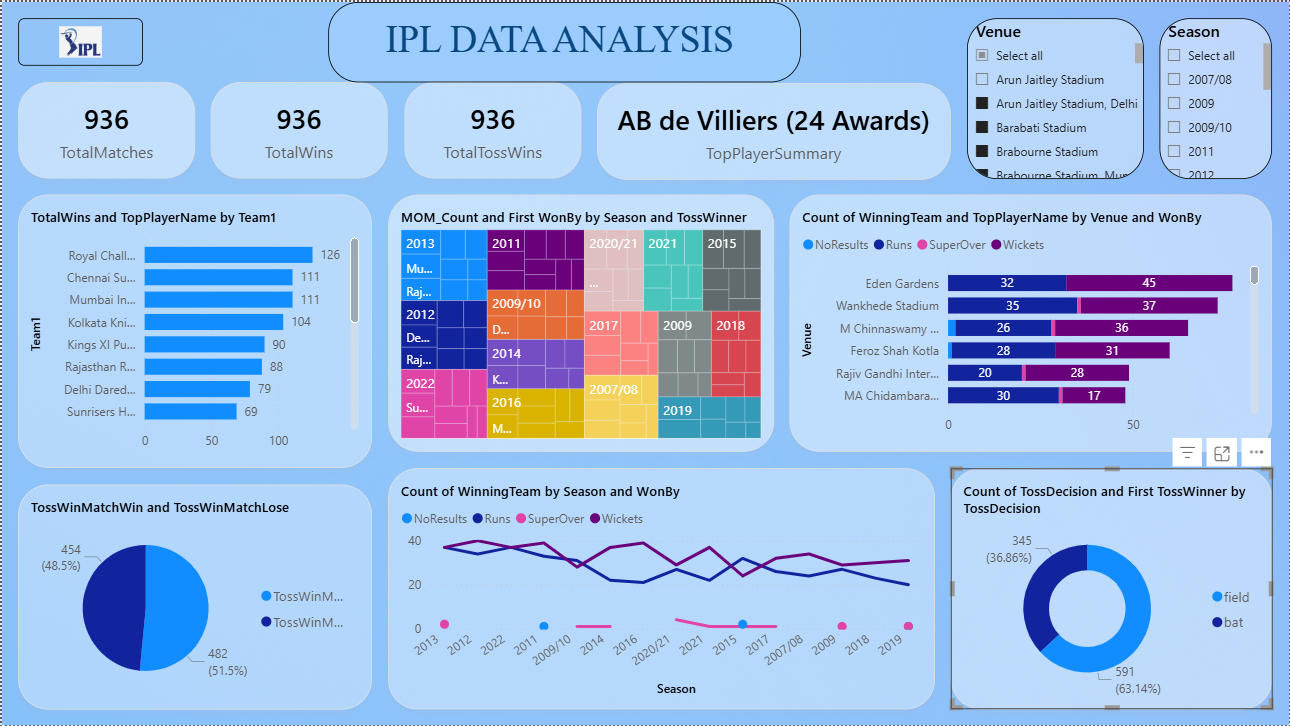

The dashboard page shown, as its layout file describes it:
{"tool":"powerbi","page":{"name":"Analysis 2","canvas":[1280,720],"ordinal":6},"visuals":[{"type":"clusteredBarChart","fields":{"Y":["IPL_Dataset.TotalWins"],"Category":["IPL_Dataset.Team1","IPL_Dataset.Team2"]},"box":[16,192,352,272],"z":0},{"type":"treemap","fields":{"Values":["IPL_Dataset.MOM_Count"],"Group":["IPL_Dataset.Season"],"Details":["IPL_Dataset.TossWinner"]},"box":[384,192,384,256],"z":1000},{"type":"lineChart","fields":{"Category":["IPL_Dataset.Season"],"Y":["IPL_Dataset.WinningTeam"],"Series":["IPL_Dataset.WonBy"]},"box":[384,464,544,240],"z":2000},{"type":"donutChart","fields":{"Category":["IPL_Dataset.TossDecision"],"Y":["IPL_Dataset.TossDecision"]},"box":[944,464,320,240],"z":3000},{"type":"card","fields":{"Values":["IPL_Dataset.TotalMatches"]},"box":[16,80,176,96],"z":4000},{"type":"card","fields":{"Values":["IPL_Dataset.TotalWins"]},"box":[208,80,176,96],"z":5000},{"type":"card","fields":{"Values":["IPL_Dataset.TotalTossWins"]},"box":[400,80,176,96],"z":6000},{"type":"card","fields":{"Values":["IPL_Dataset.TopPlayerSummary"]},"box":[592.1,80.9,352,95.8],"z":7000},{"type":"pieChart","fields":{"Y":["IPL_Dataset.TossWinMatchWin","IPL_Dataset.TossWinMatchLose"]},"box":[16,480,352,224],"z":8000},{"type":"barChart","fields":{"Category":["IPL_Dataset.Venue"],"Y":["IPL_Dataset.WinningTeam"],"Series":["IPL_Dataset.WonBy"]},"box":[784,192,480,256],"z":9000},{"type":"textbox","box":[324.7,0,470.2,79.6],"z":10000},{"type":"slicer","fields":{"Values":["IPL_Dataset.Season"]},"box":[1152,16,112,160],"z":11000},{"type":"slicer","fields":{"Values":["IPL_Dataset.Venue"]},"box":[960,16,176,160],"z":12000},{"type":"image","box":[16.2,16.2,124.4,47.3],"z":13000}]}

Visuals, with their boxes in screenshot pixels (x1, y1, x2, y2), scaled from the page's 1280x720 canvas onto the 1290x726 screenshot:
clusteredBarChart - IPL_Dataset.TotalWins x IPL_Dataset.Team1: region(16, 194, 371, 468)
treemap - IPL_Dataset.MOM_Count x IPL_Dataset.Season: region(387, 194, 774, 452)
lineChart - IPL_Dataset.Season x IPL_Dataset.WinningTeam: region(387, 468, 935, 710)
donutChart - IPL_Dataset.TossDecision x IPL_Dataset.TossDecision: region(951, 468, 1274, 710)
card - IPL_Dataset.TotalMatches: region(16, 81, 194, 177)
card - IPL_Dataset.TotalWins: region(210, 81, 387, 177)
card - IPL_Dataset.TotalTossWins: region(403, 81, 580, 177)
card - IPL_Dataset.TopPlayerSummary: region(597, 82, 951, 178)
pieChart - IPL_Dataset.TossWinMatchWin x IPL_Dataset.TossWinMatchLose: region(16, 484, 371, 710)
barChart - IPL_Dataset.Venue x IPL_Dataset.WinningTeam: region(790, 194, 1274, 452)
textbox: region(327, 0, 801, 80)
slicer - IPL_Dataset.Season: region(1161, 16, 1274, 177)
slicer - IPL_Dataset.Venue: region(968, 16, 1145, 177)
image: region(16, 16, 142, 64)
